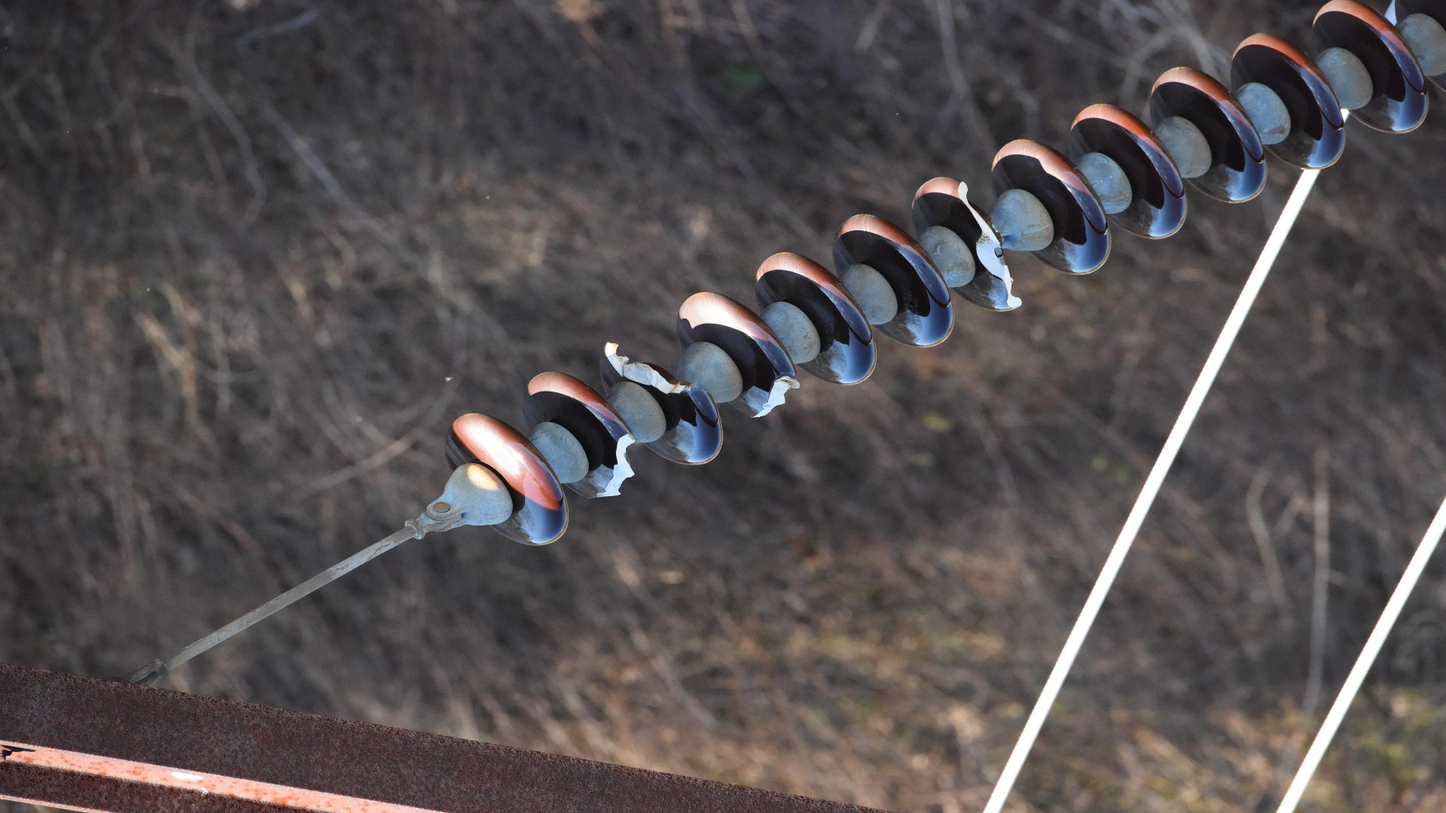insulator: (438, 1, 1446, 553)
insulator_breakage: (951, 175, 1027, 313), (601, 336, 713, 400), (585, 427, 641, 501), (749, 370, 804, 424)
